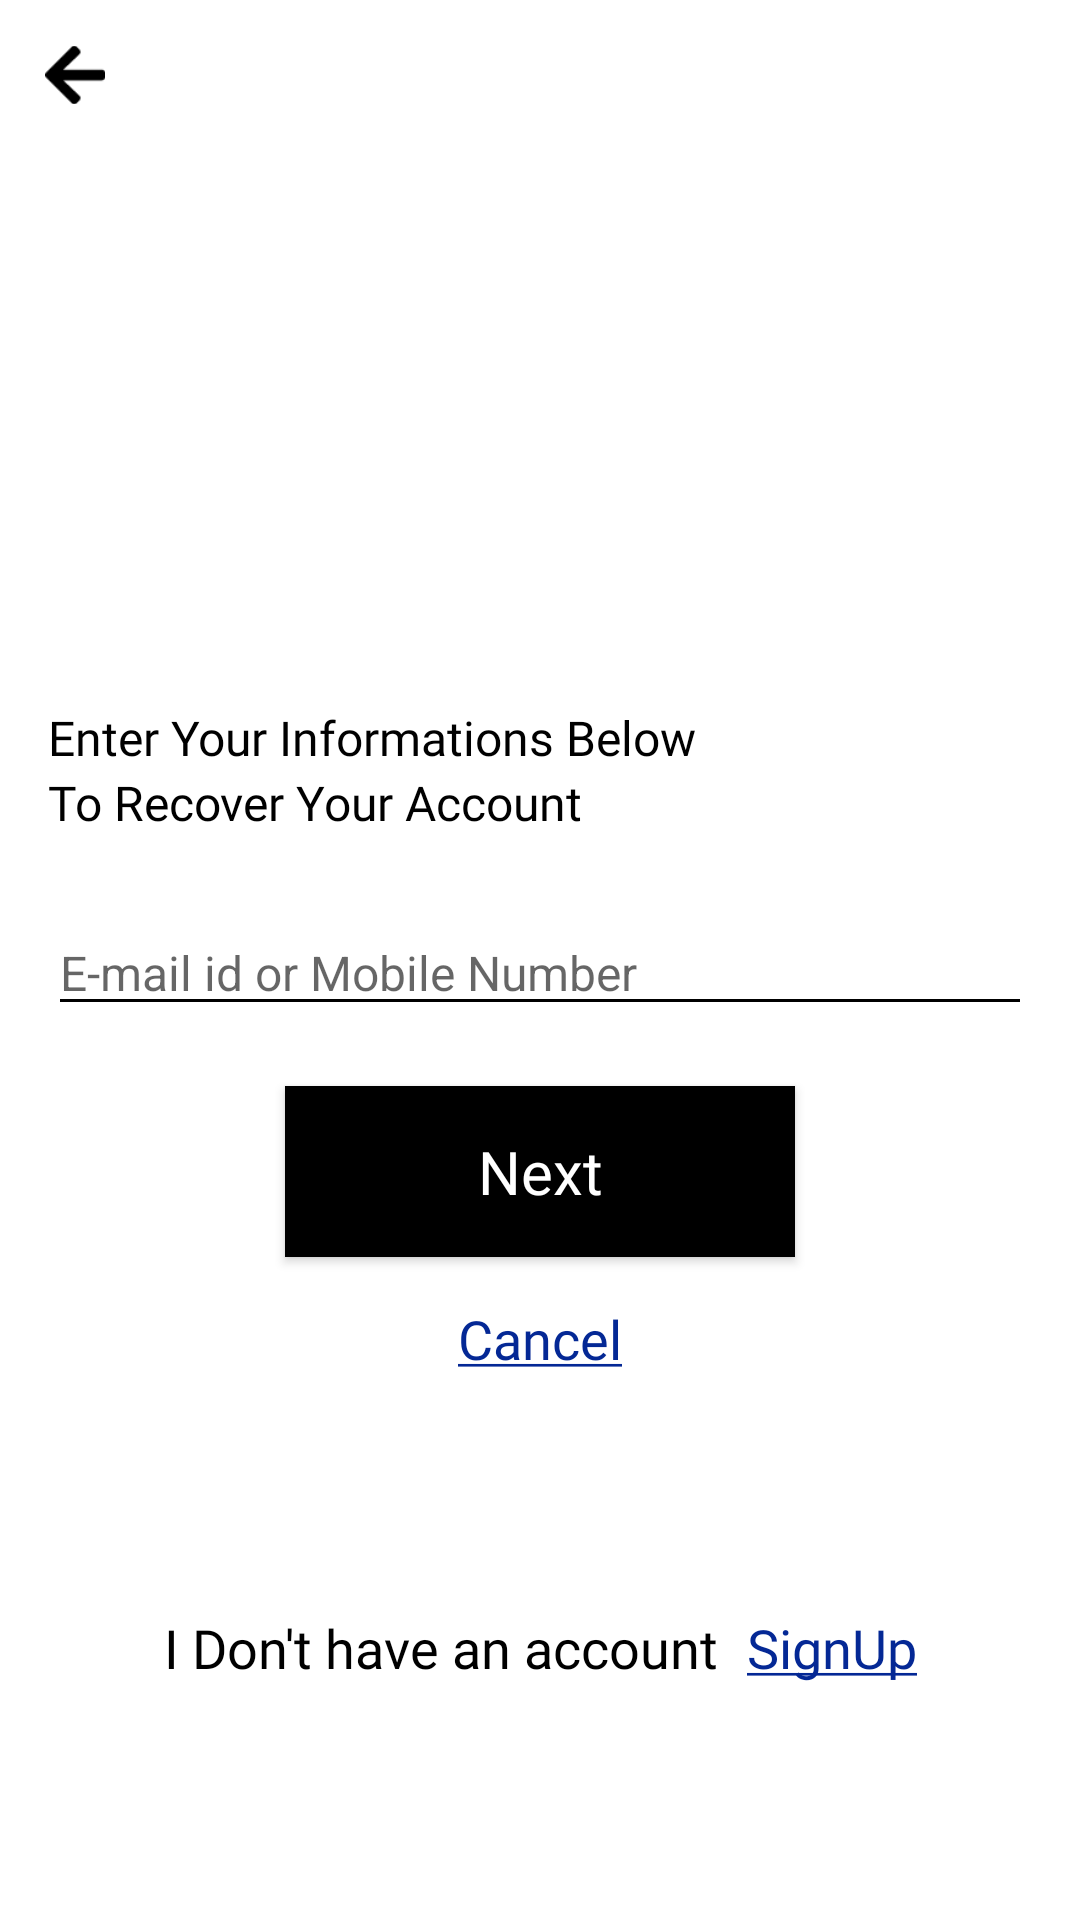

Where icons sit on this 1080 × 1920 app screen, as box(x1, y1, x2, y2):
back: box(45, 46, 105, 104)
